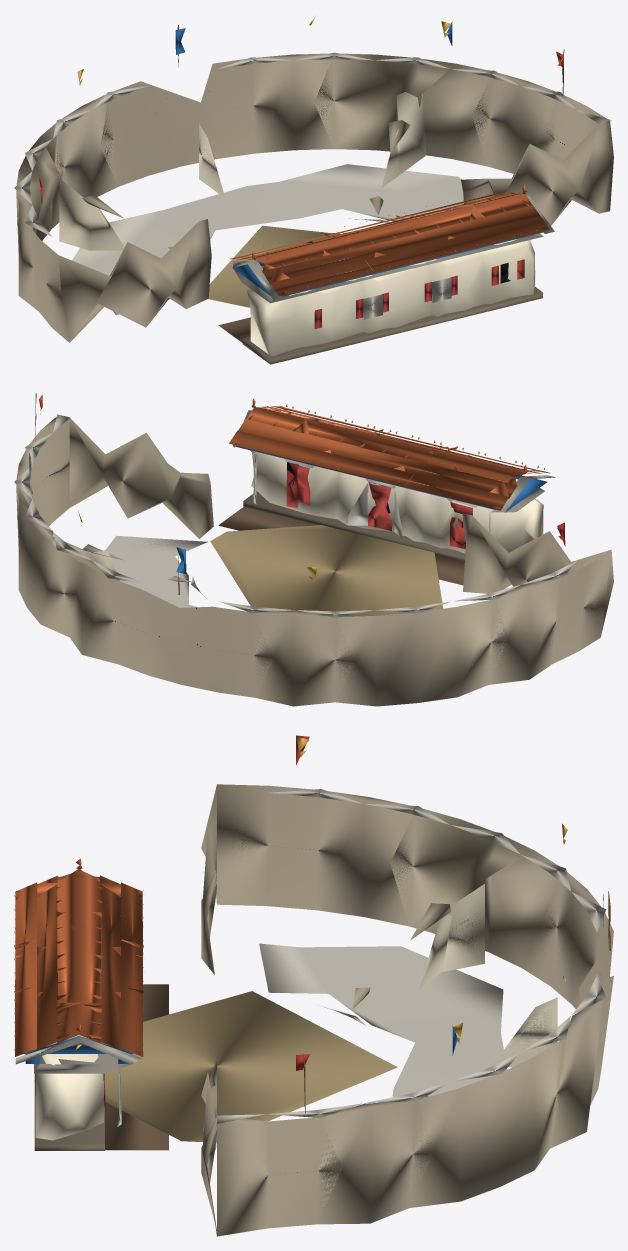
Rendered from civic_amphitheatre.glb.
3 renders of one model, top to bottom at view 1: azimuth 30°, elevation 25°; view 2: azimuth 150°, elevation 25°; view 3: azimuth 270°, elevation 25°, orthographic. The views are drawn at different scales.
Parts seen in each view (by area): view 1: stone, step, cream, marble, paving, terracotta0, terracotta1, terracotta2, sand, stone_dark, red_wood, paint_azure; view 2: stone, sand, cream, marble, terracotta0, terracotta1, terracotta2, step, red_wood, stone_dark, wood, paint_azure (+1 smaller); view 3: stone, sand, step, terracotta1, marble, terracotta0, terracotta2, paving, cream, wood, stone_dark, paint_azure.
Boxes of the visible parts, x1=… form: stone: x1=16, y1=53, x2=613, y2=342; step: x1=72, y1=164, x2=463, y2=315; cream: x1=247, y1=239, x2=535, y2=355; marble: x1=14, y1=52, x2=611, y2=319; paving: x1=59, y1=92, x2=426, y2=250; terracotta0: x1=230, y1=192, x2=549, y2=296; terracotta1: x1=230, y1=192, x2=549, y2=295; terracotta2: x1=238, y1=193, x2=531, y2=283; sand: x1=208, y1=225, x2=340, y2=307; stone_dark: x1=242, y1=287, x2=542, y2=364; red_wood: x1=314, y1=259, x2=524, y2=328; paint_azure: x1=232, y1=197, x2=543, y2=296; stone: x1=16, y1=415, x2=613, y2=706; sand: x1=210, y1=525, x2=443, y2=616; cream: x1=251, y1=452, x2=543, y2=553; marble: x1=14, y1=409, x2=576, y2=617; terracotta0: x1=229, y1=406, x2=549, y2=510; terracotta1: x1=230, y1=406, x2=549, y2=509; terracotta2: x1=247, y1=407, x2=540, y2=496; step: x1=104, y1=535, x2=207, y2=607; red_wood: x1=286, y1=462, x2=472, y2=548; stone_dark: x1=243, y1=491, x2=465, y2=560; wood: x1=218, y1=507, x2=464, y2=585; paint_azure: x1=233, y1=411, x2=547, y2=512; stone: x1=201, y1=784, x2=613, y2=1236; sand: x1=105, y1=991, x2=397, y2=1142; step: x1=259, y1=943, x2=507, y2=1098; terracotta1: x1=14, y1=875, x2=143, y2=1055; marble: x1=15, y1=789, x2=606, y2=1126; terracotta0: x1=14, y1=875, x2=143, y2=1056; terracotta2: x1=15, y1=869, x2=142, y2=1042; paving: x1=419, y1=884, x2=557, y2=1097; cream: x1=35, y1=1035, x2=103, y2=1140; wood: x1=105, y1=984, x2=168, y2=1150; stone_dark: x1=34, y1=1074, x2=104, y2=1150; paint_azure: x1=24, y1=1036, x2=133, y2=1063.
Size of the model in its own units: 30.6 by 7.39 by 22.85.
